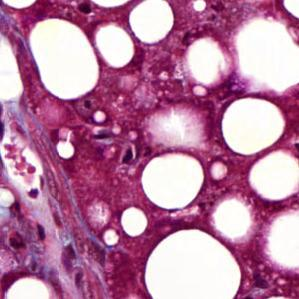steatosis: (29, 13, 102, 97), (220, 96, 290, 158), (141, 152, 205, 210)
